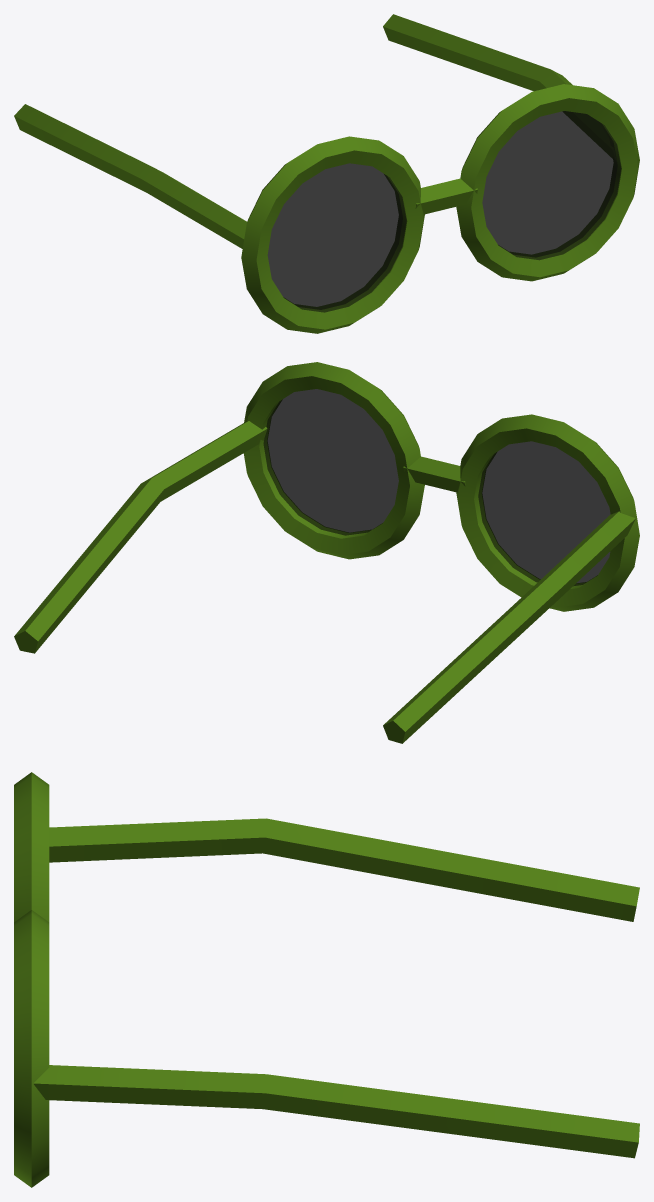
Rendered from mall-sunglasses.glb.
3 views of the same model, one above another, from view 1: azimuth 30°, elevation 25°; view 2: azimuth 150°, elevation 25°; view 3: azimuth 270°, elevation 25° (orthographic). The views are drawn at different scales.
Visible parts, largest first — view 1: frame__lacquer, lenses__glass_tint; view 2: frame__lacquer, lenses__glass_tint; view 3: frame__lacquer.
Boxes of the visible parts, x1=… form: frame__lacquer: x1=14, y1=14, x2=639, y2=333; lenses__glass_tint: x1=267, y1=111, x2=621, y2=312; frame__lacquer: x1=14, y1=362, x2=639, y2=743; lenses__glass_tint: x1=263, y1=389, x2=610, y2=585; frame__lacquer: x1=14, y1=772, x2=639, y2=1187.
Bounding box in the file's own units: 0.1376 × 0.0591 × 0.1345.
